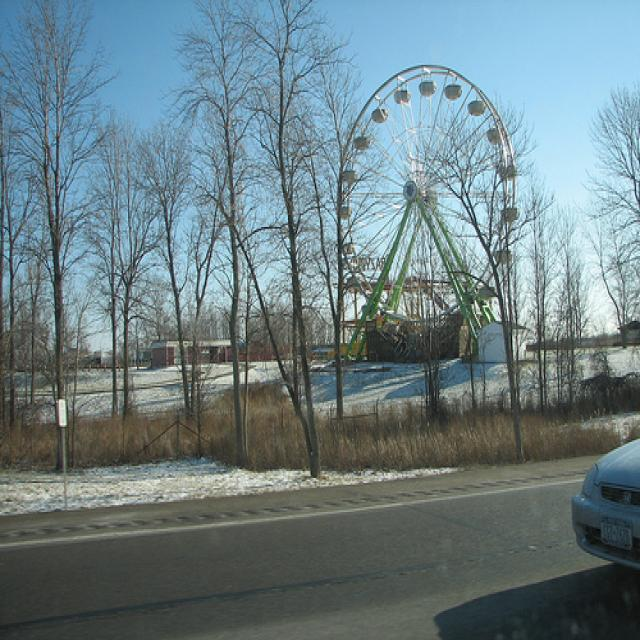car: (569, 433, 640, 571)
